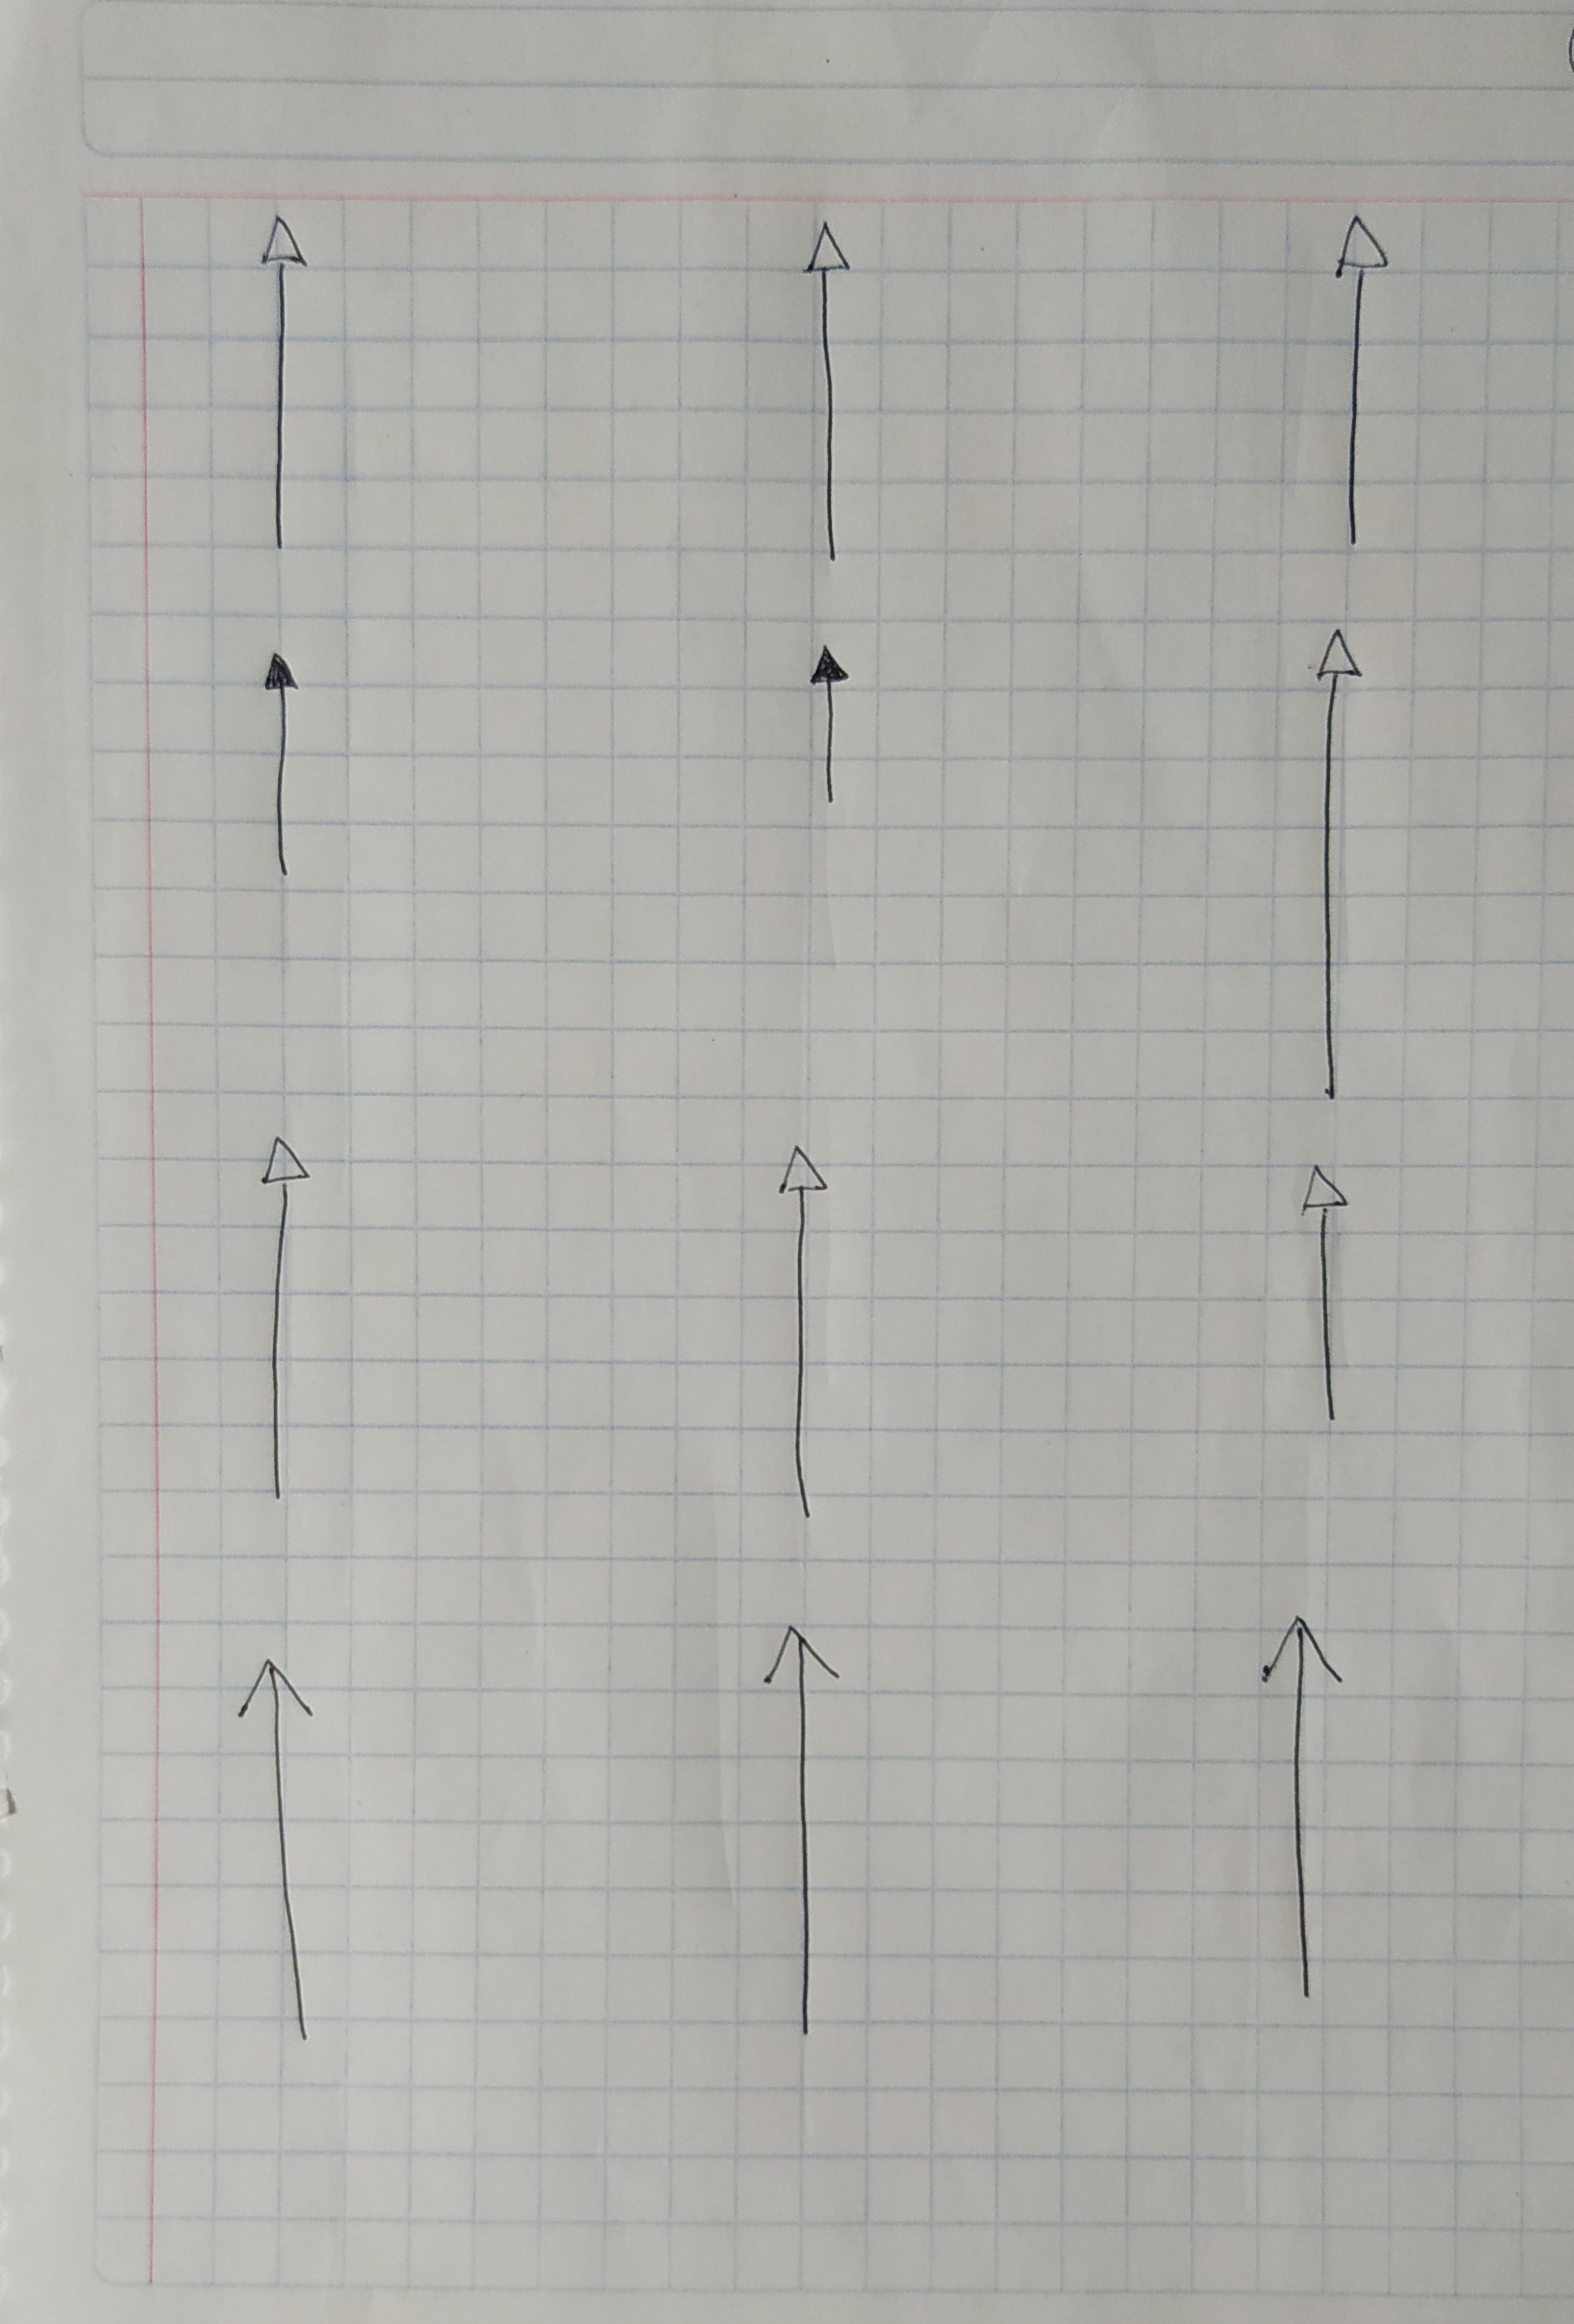arrow_line_up: (235, 1656, 325, 2048), (762, 1625, 841, 2043), (1260, 1614, 1344, 2006), (1309, 629, 1363, 1110), (773, 1145, 834, 1526), (1328, 213, 1391, 553), (255, 1137, 311, 1505), (803, 220, 857, 562), (260, 218, 311, 557), (1298, 1159, 1356, 1433), (256, 653, 306, 877), (806, 643, 848, 822)
